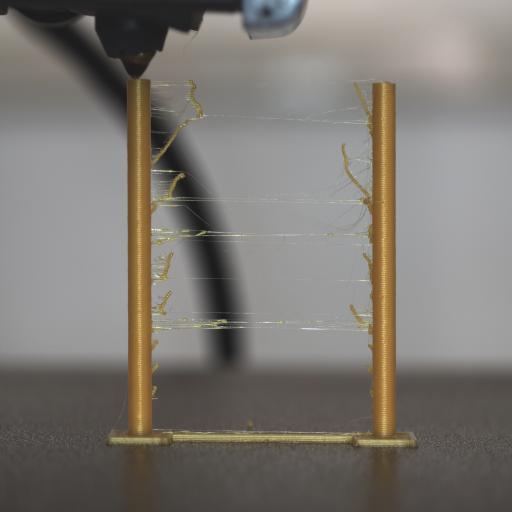stringing: (342, 140, 372, 204), (151, 315, 261, 331), (151, 171, 184, 215), (151, 125, 184, 167), (152, 228, 262, 240), (150, 80, 192, 104), (354, 81, 372, 124), (152, 249, 174, 282), (350, 304, 372, 332), (152, 291, 172, 315), (152, 232, 186, 244), (363, 251, 373, 286), (151, 338, 158, 352), (150, 202, 158, 214), (152, 362, 158, 374), (151, 386, 157, 398), (366, 365, 373, 375), (368, 343, 372, 351), (370, 390, 374, 398), (151, 328, 156, 334)
